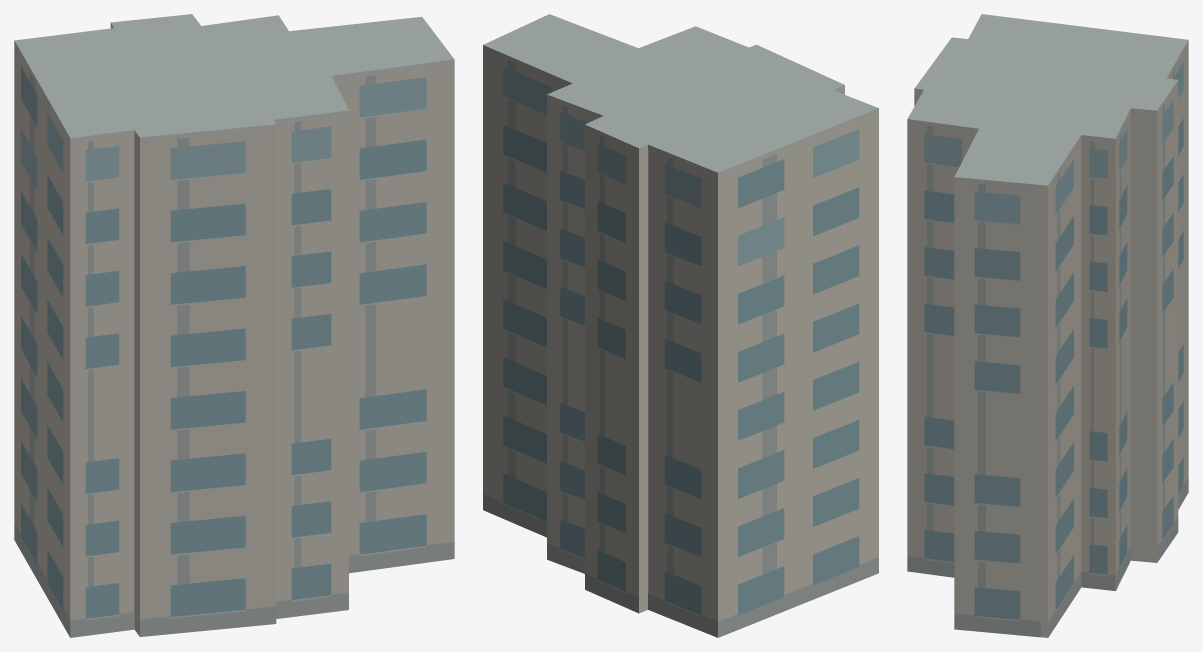
Rendered from residential-5ed5dd55-e795-43ef-9389-34255e70cb32.glb.
3 views of the same model, side by side, from view 1: azimuth 30°, elevation 25°; view 2: azimuth 150°, elevation 25°; view 3: azimuth 270°, elevation 25° (orthographic). The views are drawn at different scales.
Visible parts, largest first — view 1: residential-5ed5dd55-e795-43ef-9389-34255e70cb32.tmp; view 2: residential-5ed5dd55-e795-43ef-9389-34255e70cb32.tmp; view 3: residential-5ed5dd55-e795-43ef-9389-34255e70cb32.tmp.
Part boxes in pixels (box(x1,y1,x2,y2)): residential-5ed5dd55-e795-43ef-9389-34255e70cb32.tmp: box(14, 14, 454, 637); residential-5ed5dd55-e795-43ef-9389-34255e70cb32.tmp: box(483, 14, 878, 637); residential-5ed5dd55-e795-43ef-9389-34255e70cb32.tmp: box(907, 14, 1188, 637).
Size of the model in its own units: 19.86 by 24.4 by 13.76.
